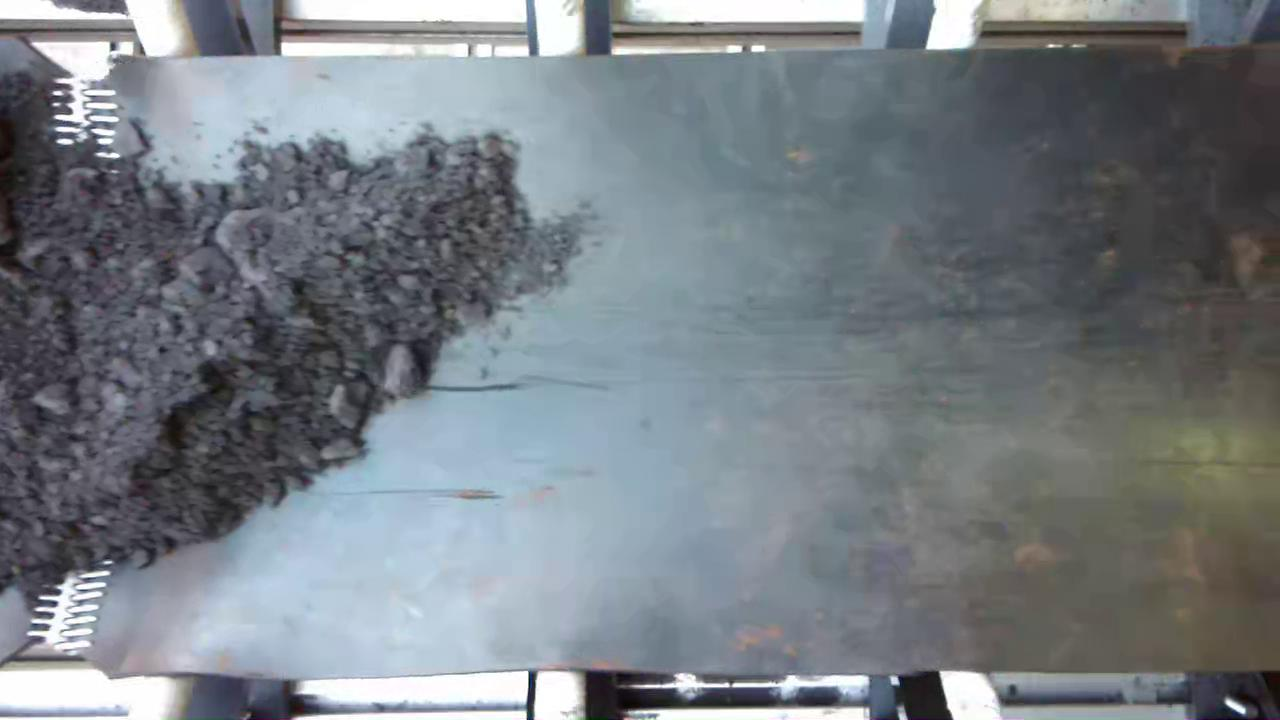conveyor: (0, 63, 1280, 671)
